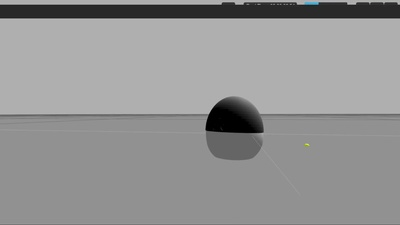mira_robot: (205, 96, 265, 160)
